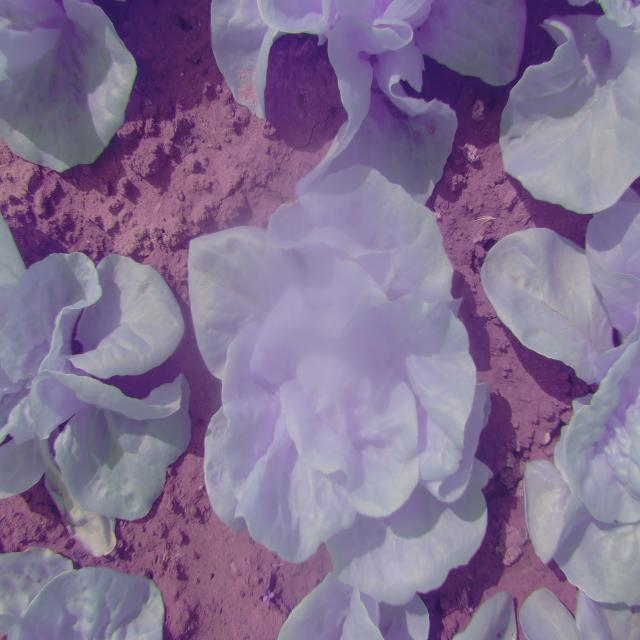vege: (187, 168, 501, 606)
